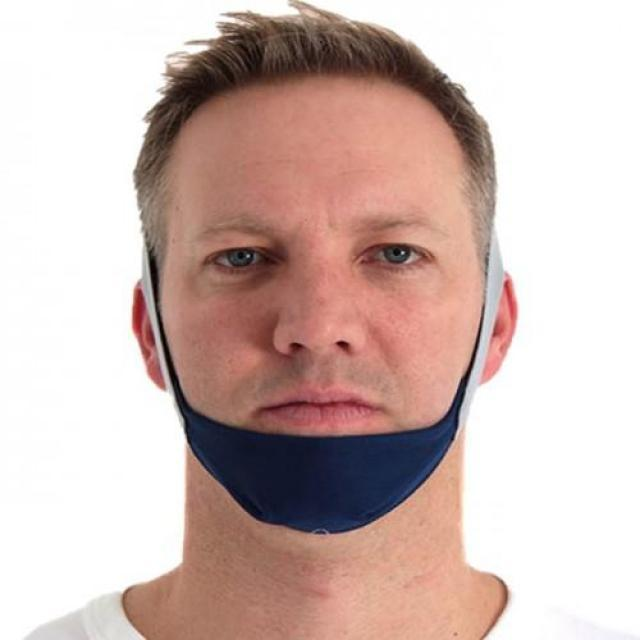hairnet: (99, 85, 506, 545)
